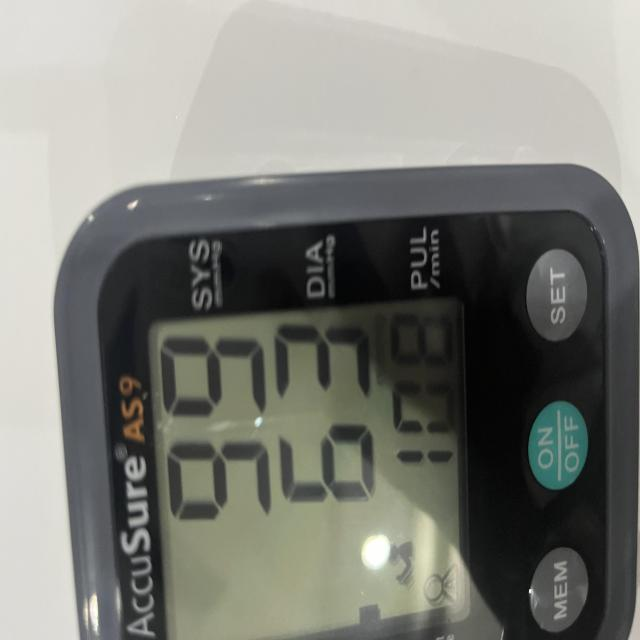bp: (50, 161, 640, 640)
